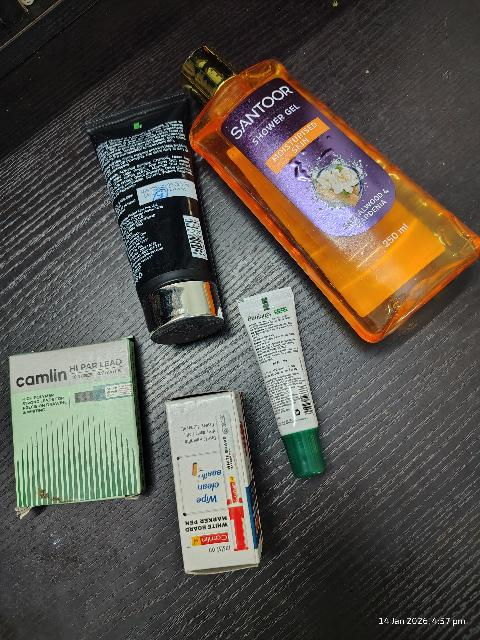banjaras lipbam: (254, 308, 333, 475)
camlin lids: (8, 342, 137, 510)
camlin marker ink: (166, 400, 266, 580)
jovees herbal: (91, 120, 224, 326)
santoor bodywash: (208, 72, 437, 276)
